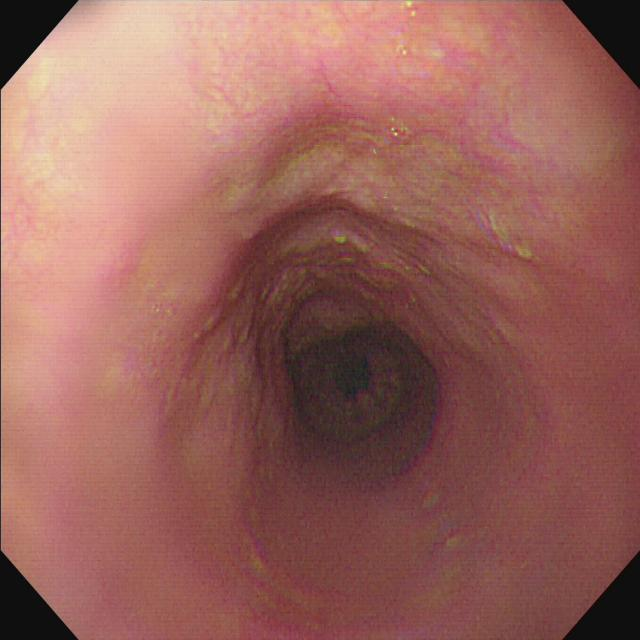E: (285, 305, 433, 459)
